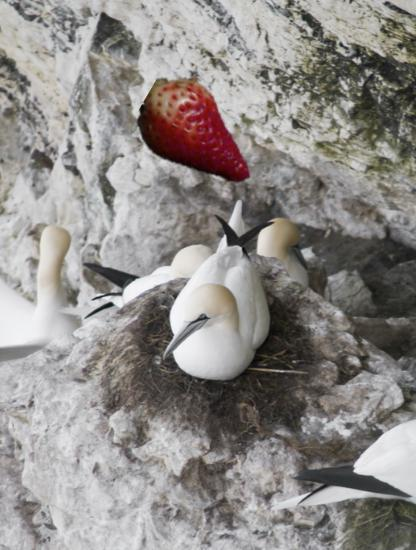Strawberry: (137, 66, 267, 196)
